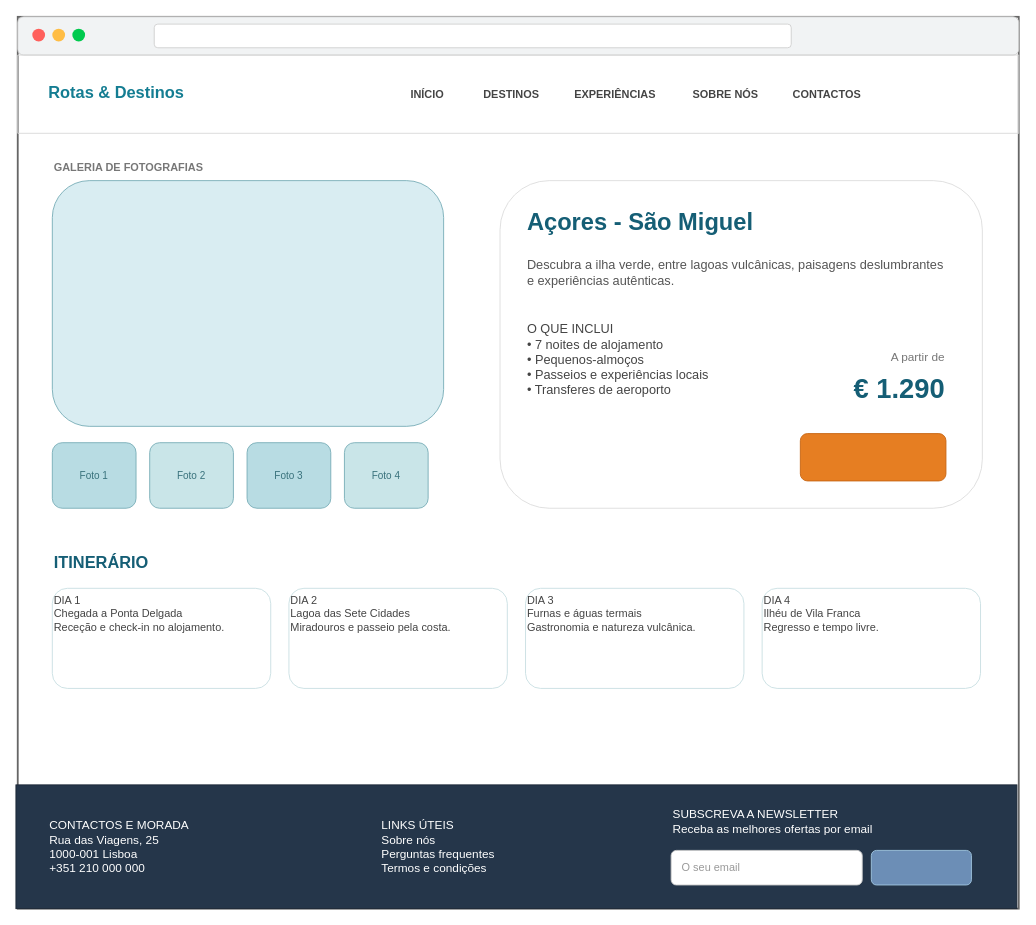
Image size: 1036x925. Some labels were removed from this diagram. Each missing label, with the centre of its shape:
Fotografia principal Paisagem de São Miguel: the point at 247,303
RESERVAR: the point at 872,457
Subscrever: the point at 920,867
www.Rotas&Destinos.pt/pacotes/sao-miguel: the point at 472,35
